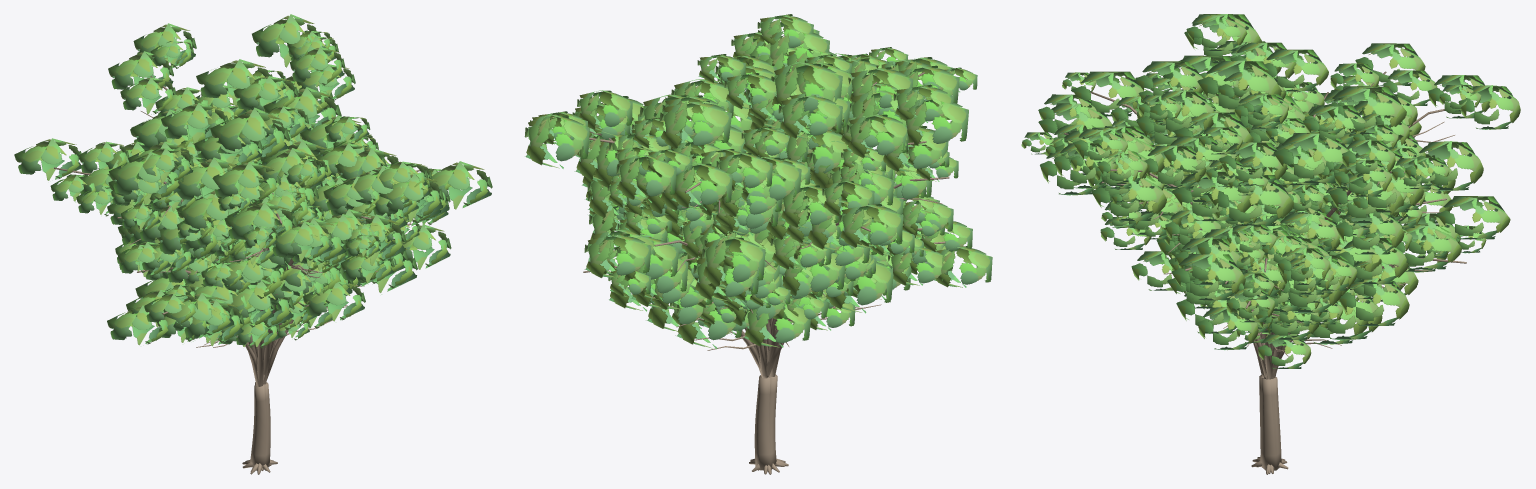
The model's file is deciduous.glb.
3 renders of one model, left to right at view 1: azimuth 30°, elevation 25°; view 2: azimuth 150°, elevation 25°; view 3: azimuth 270°, elevation 25°, orthographic. The views are drawn at different scales.
Visible parts, largest first — view 1: DecidTree_5, DecidTree_4, DecidTree_2, DecidTree_1, DecidTree_3; view 2: DecidTree_5, DecidTree_4, DecidTree_2, DecidTree_1, DecidTree_3; view 3: DecidTree_5, DecidTree_4, DecidTree_1, DecidTree_2, DecidTree_3.
Part boxes in pixels (x1,y1,x2,y2): DecidTree_5: [108, 14, 443, 470]; DecidTree_4: [14, 23, 408, 474]; DecidTree_2: [79, 87, 451, 472]; DecidTree_1: [117, 76, 492, 470]; DecidTree_3: [115, 105, 450, 474]; DecidTree_5: [524, 18, 977, 469]; DecidTree_4: [583, 47, 953, 472]; DecidTree_2: [584, 38, 992, 471]; DecidTree_1: [588, 14, 958, 474]; DecidTree_3: [575, 48, 953, 474]; DecidTree_5: [1054, 14, 1483, 474]; DecidTree_4: [1021, 43, 1520, 473]; DecidTree_1: [1071, 61, 1452, 473]; DecidTree_2: [1084, 63, 1510, 469]; DecidTree_3: [1040, 60, 1421, 469].
Bounding box in the file's own units: 5.28 × 4.93 × 5.63.
2 materials, 1 textured.
